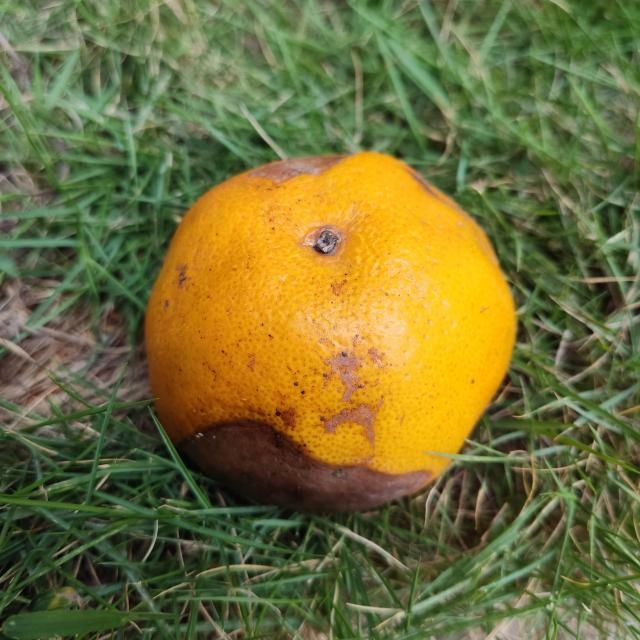agrume: (143, 152, 518, 510)
